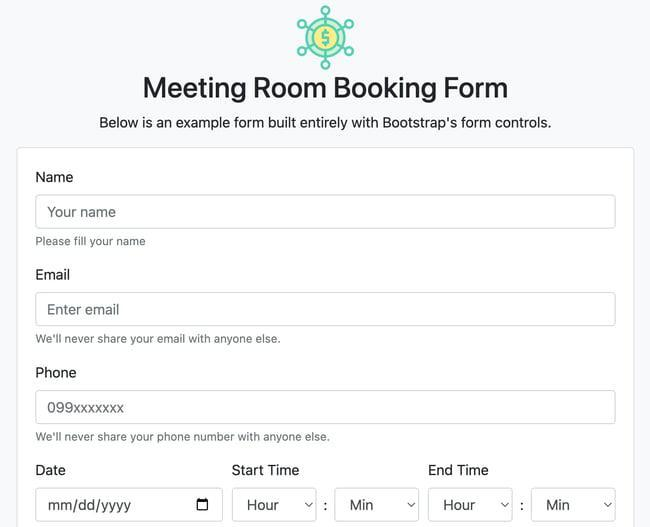dropdown: (532, 488, 618, 524), (233, 488, 318, 522), (336, 490, 421, 522), (429, 489, 514, 521)
input: (36, 391, 617, 427), (36, 195, 618, 229), (37, 292, 618, 326), (34, 489, 223, 521)
label: (127, 73, 515, 108), (223, 458, 310, 480), (425, 460, 499, 483), (31, 362, 90, 382), (29, 459, 79, 482), (35, 167, 80, 188), (30, 265, 77, 284)
